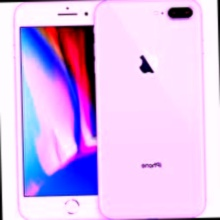iphone: (15, 1, 125, 220)
